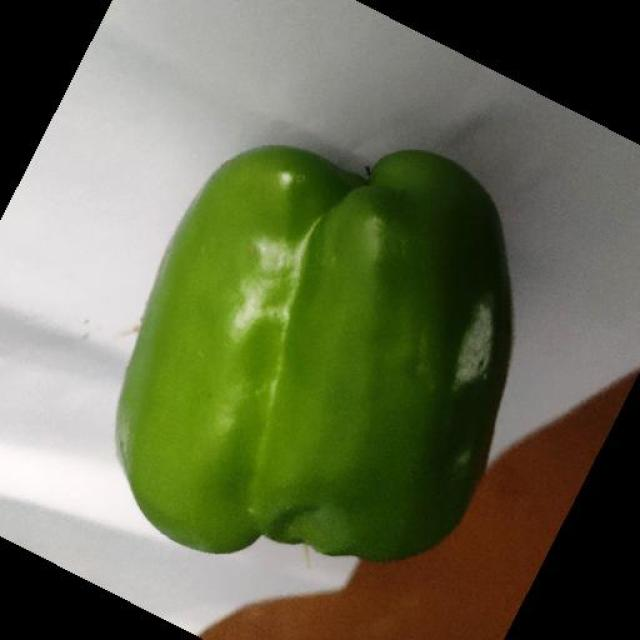Stale_Capsicum: (146, 153, 520, 545)
